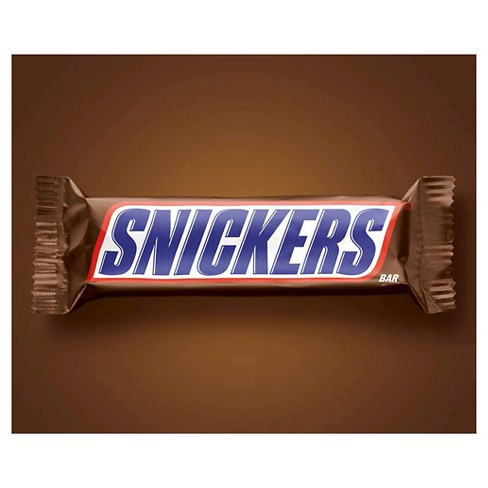snickers: (97, 207, 390, 275)
